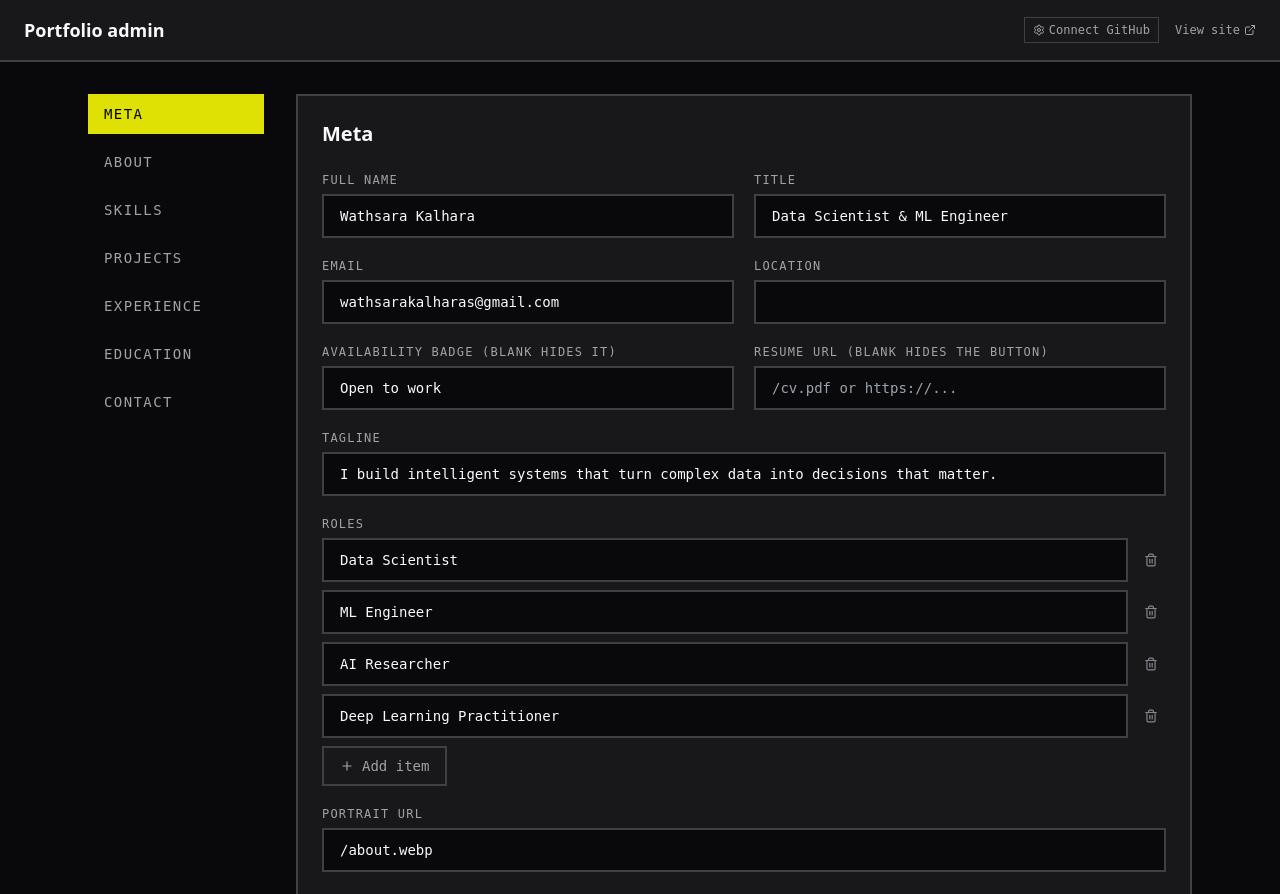
Test: Admin › saves edits as a local draft when GitHub is not connected
The image size is (1280, 894).
Replace the text in the field labelled "Tagline" with "New tagline" at (744, 474), box [322, 452, 1166, 496]
(page scrolled)
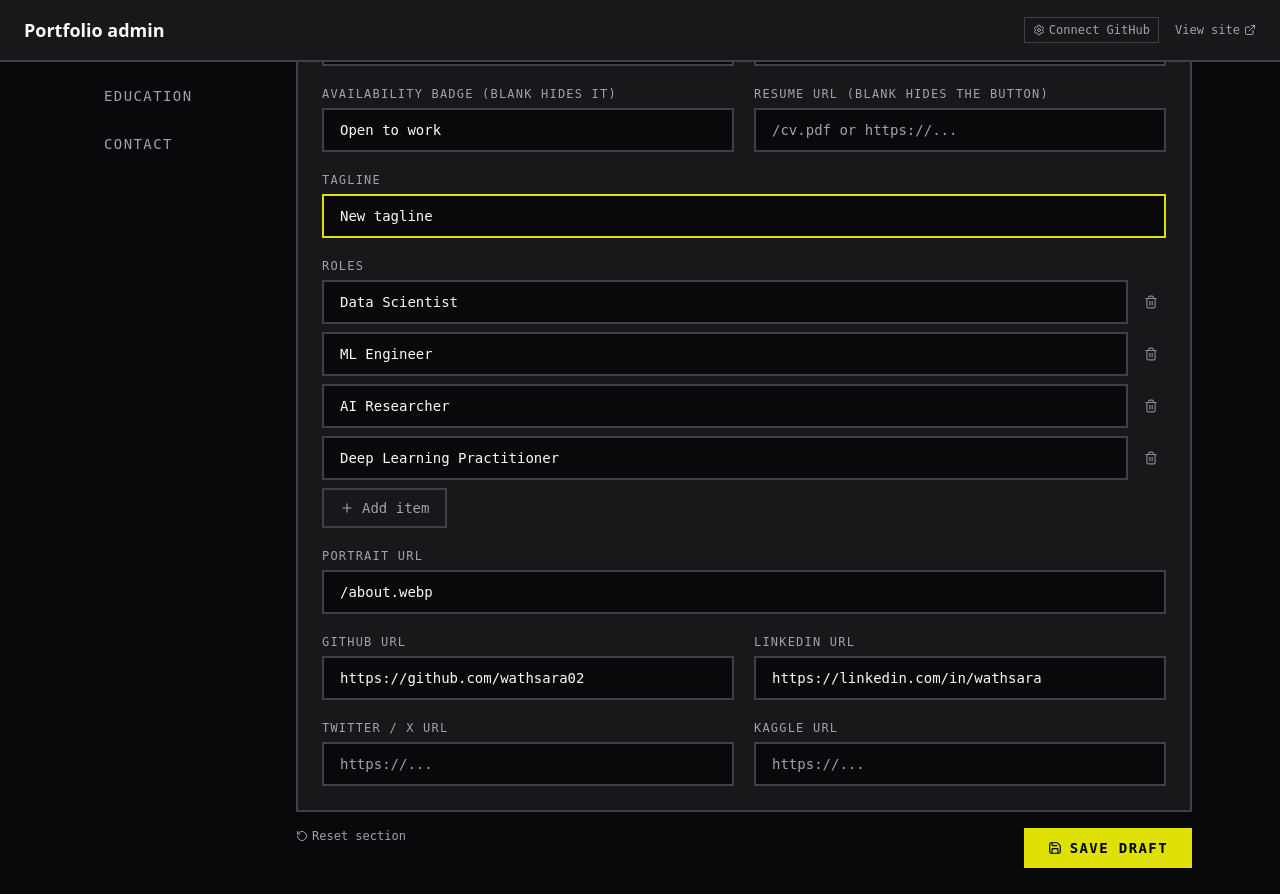
Click the button "Save draft" at (1108, 848), box [1024, 828, 1192, 868]
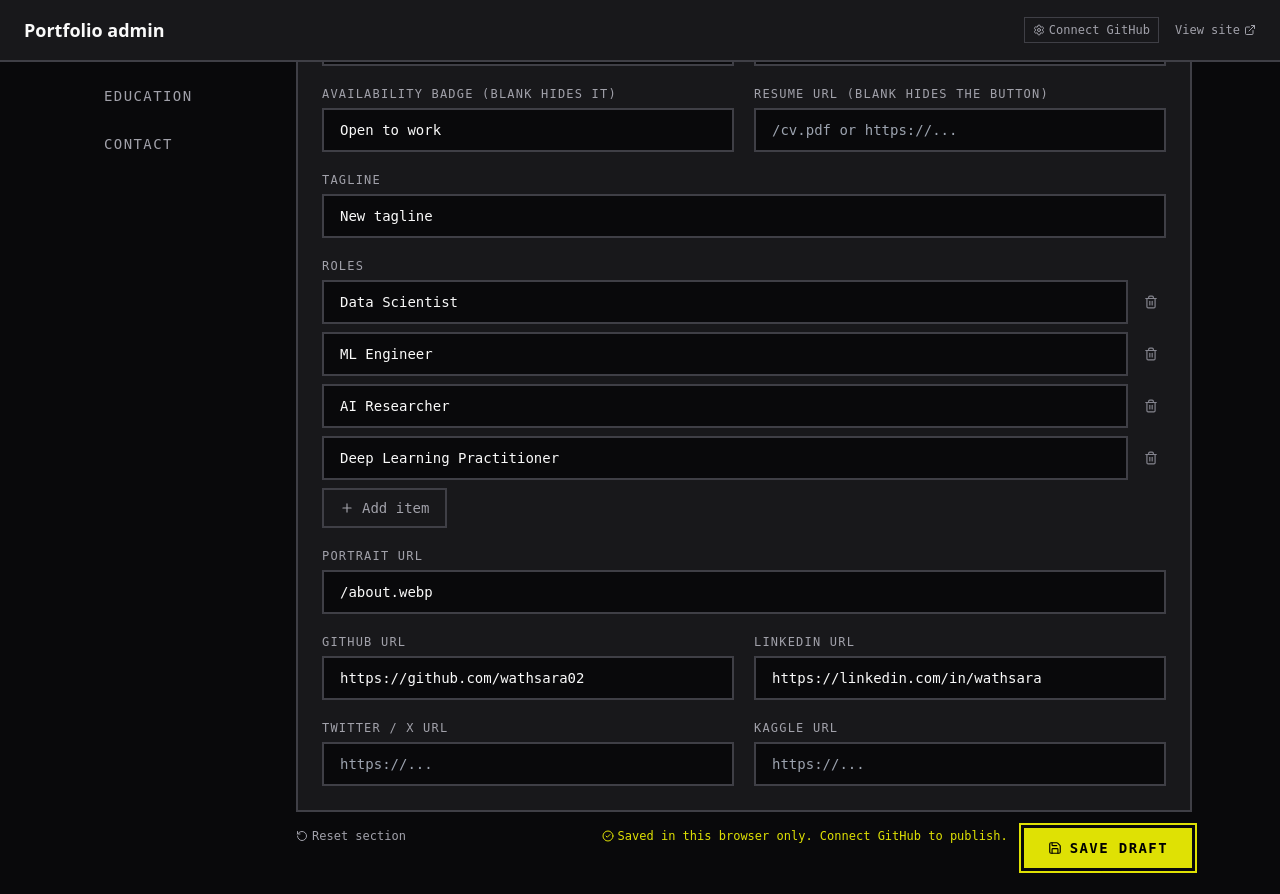
Check: the message shows "this browser only", box [618, 829, 1008, 843]
